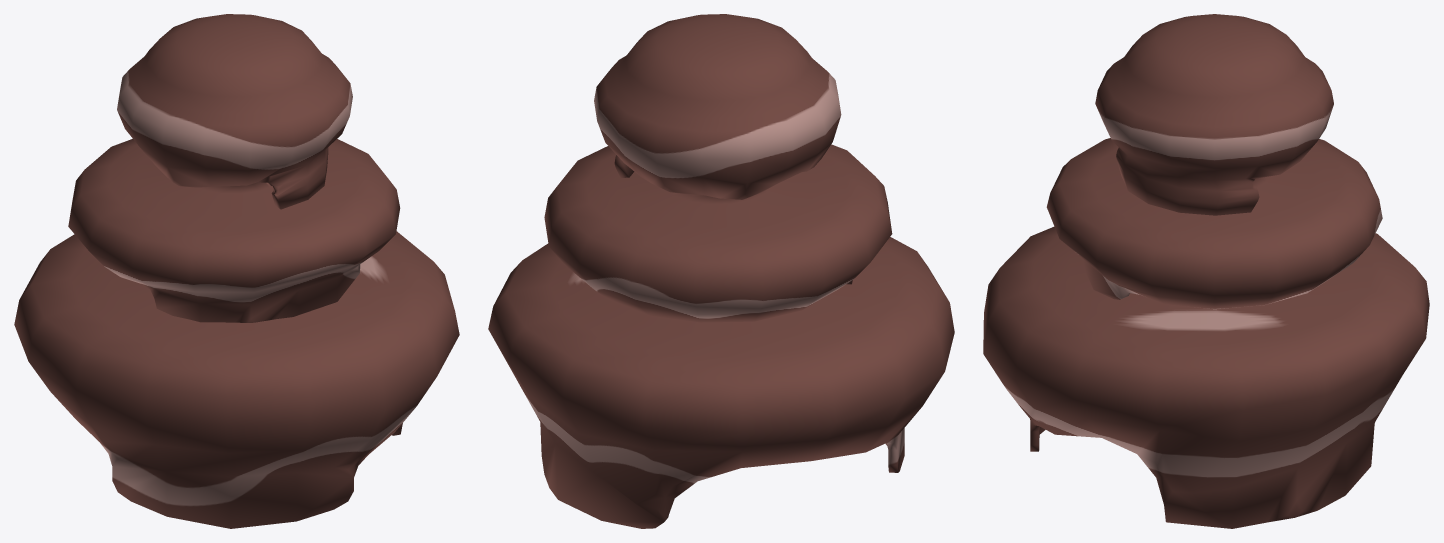
Rendered from Chocolate_Flow.fbx.
3 renders of one model, left to right at view 1: azimuth 30°, elevation 25°; view 2: azimuth 150°, elevation 25°; view 3: azimuth 270°, elevation 25°, orthographic. The views are drawn at different scales.
Visible parts, largest first — view 1: Chocolate_Flow; view 2: Chocolate_Flow; view 3: Chocolate_Flow.
Boxes of the visible parts, box(x1,y1,x2,y2) form: Chocolate_Flow: box(14, 14, 459, 528); Chocolate_Flow: box(488, 14, 954, 528); Chocolate_Flow: box(983, 14, 1429, 528).
Size of the model in its own units: 35.51 by 37.84 by 36.
